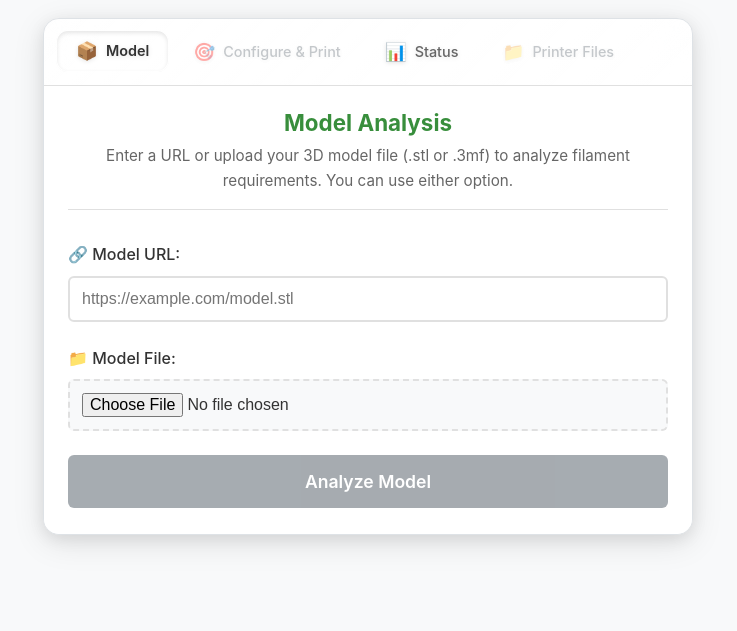
Test: Status Messages Scrolling › verifies status messages container has correct CSS class for mobile touch scrolling
// Navigate to the Status tab first
What coordinates should you click on to do the following:
click the tab "📊 Status"
I would click on:
 (422, 52)
Its box is [365, 31, 478, 73].
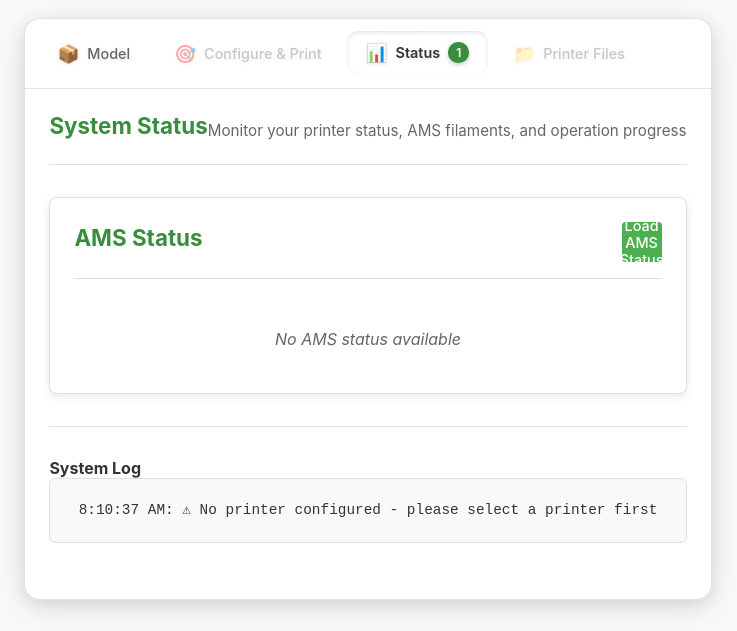
Result: the heading "System Status" is shown at [49, 113, 208, 140]
Result: the element with class "status-messages" is shown at [49, 478, 687, 543]
